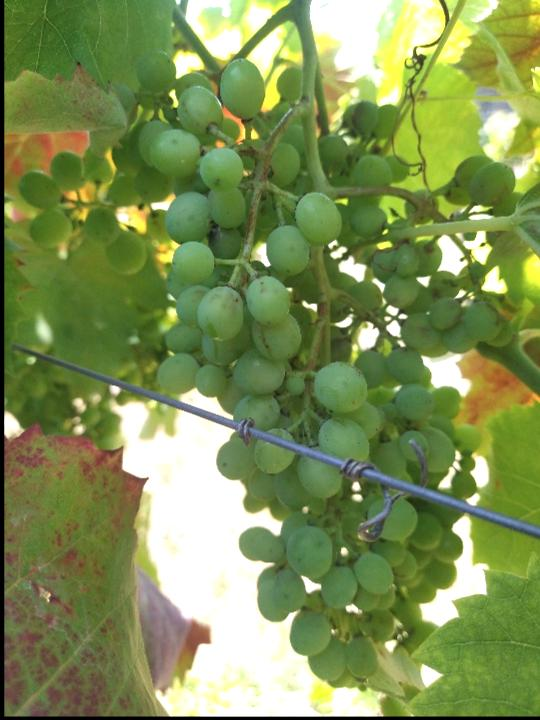grape: (13, 54, 521, 692)
